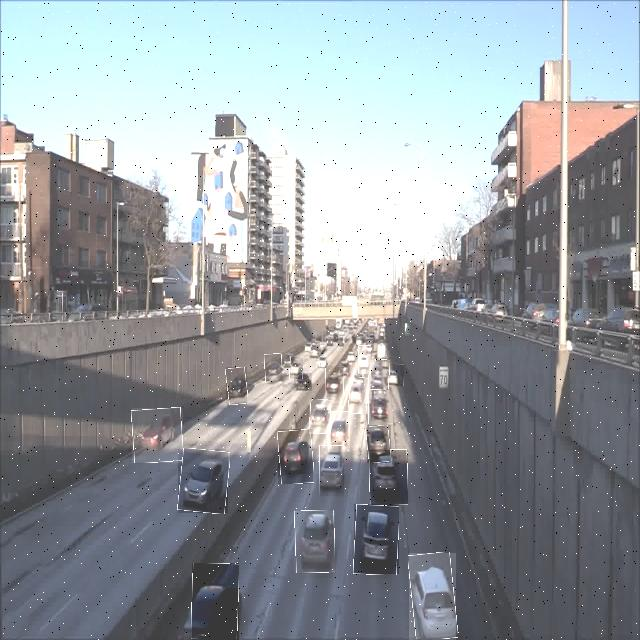Car: (409, 553, 456, 640), (192, 563, 239, 640), (178, 449, 228, 513), (354, 504, 399, 574), (132, 408, 183, 463), (294, 511, 335, 573), (370, 450, 408, 505), (278, 429, 313, 484), (319, 445, 344, 496), (368, 386, 393, 424), (367, 425, 391, 463), (328, 411, 350, 452), (226, 367, 247, 405), (309, 400, 331, 434), (349, 378, 369, 414), (369, 360, 390, 390), (325, 366, 344, 398), (265, 354, 282, 383), (386, 364, 404, 386), (358, 345, 371, 374), (294, 373, 312, 391), (290, 357, 303, 379)
